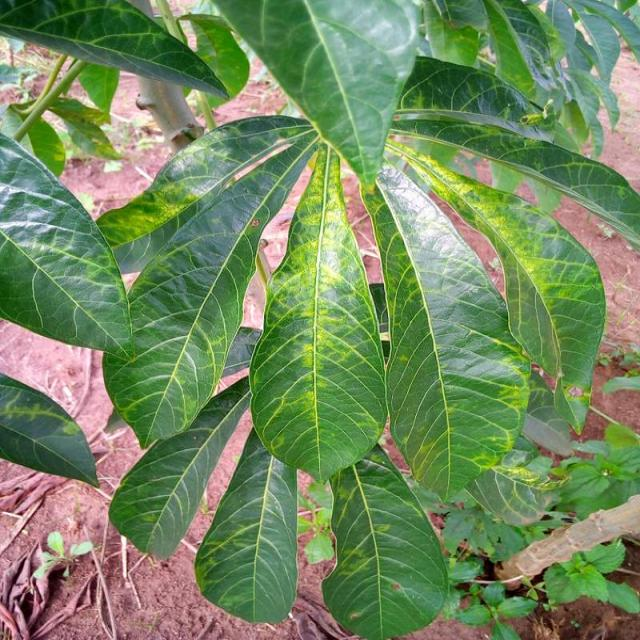cassava leaf: (0, 1, 638, 637), (98, 113, 320, 450), (365, 161, 531, 502), (247, 141, 388, 482), (210, 0, 420, 191), (0, 129, 134, 359), (107, 372, 251, 560), (320, 441, 449, 638), (193, 425, 298, 624), (0, 371, 99, 490)
